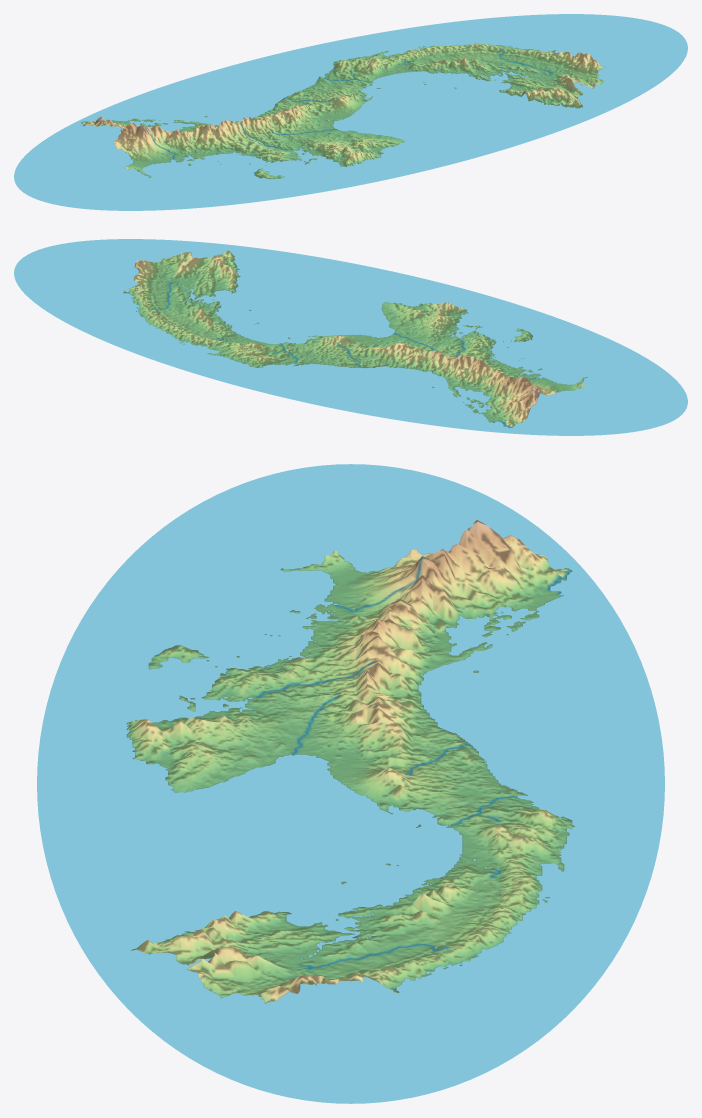
File: PAN-terrain.glb
3 views of the same model, one above another, from view 1: azimuth 30°, elevation 25°; view 2: azimuth 150°, elevation 25°; view 3: azimuth 270°, elevation 25° (orthographic). The views are drawn at different scales.
Parts seen in each view (by area): view 1: Relevo com hidrografia; view 2: Relevo com hidrografia; view 3: Relevo com hidrografia.
Part boxes in pixels (<box>): Relevo com hidrografia: <box>14,14,687,210</box>; Relevo com hidrografia: <box>14,239,687,435</box>; Relevo com hidrografia: <box>37,464,664,1103</box>.
Size of the model in its own units: 2.26 by 0.0835 by 0.9378.
Materials: 2 (1 with a texture image).
